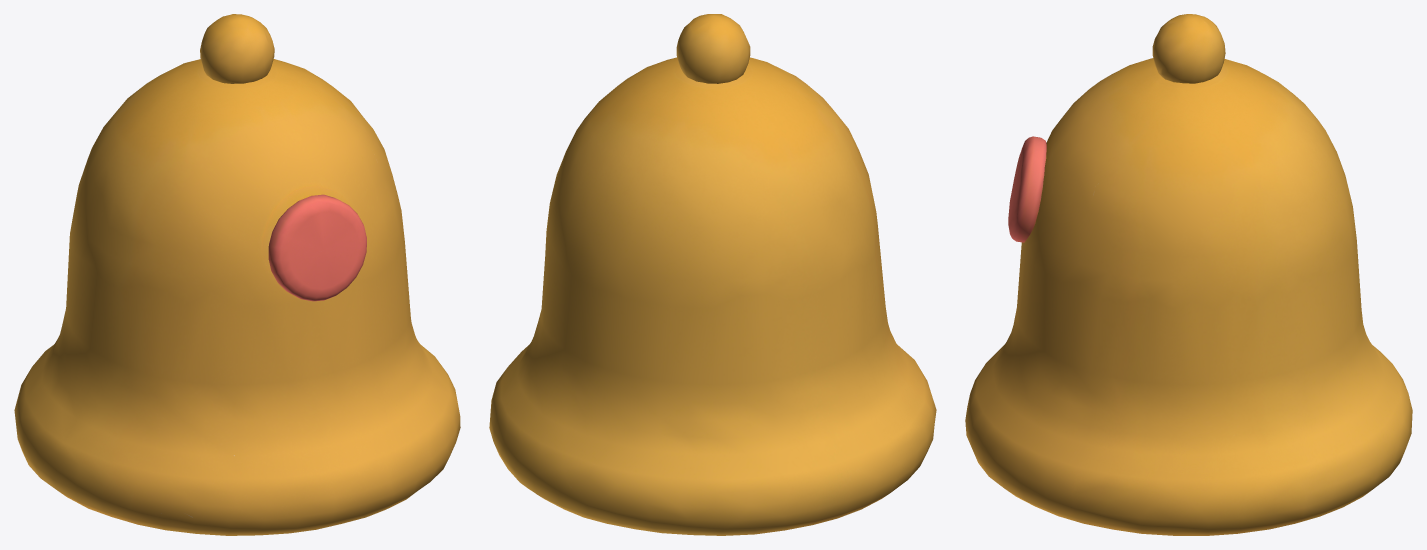
File: bell.glb
3 renders of one model, left to right at view 1: azimuth 30°, elevation 25°; view 2: azimuth 150°, elevation 25°; view 3: azimuth 270°, elevation 25°, orthographic.
Size of the model in its own units: 0.7769 by 0.9507 by 0.7788.
Materials: 1 (1 with a texture image).
